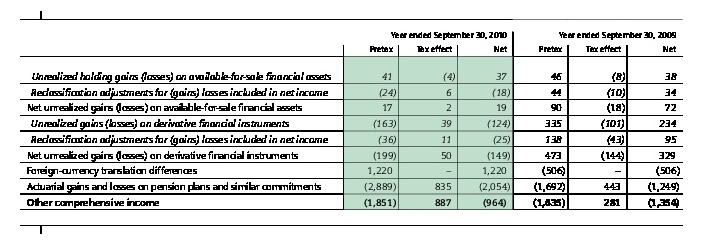table: (0, 0, 702, 242)
